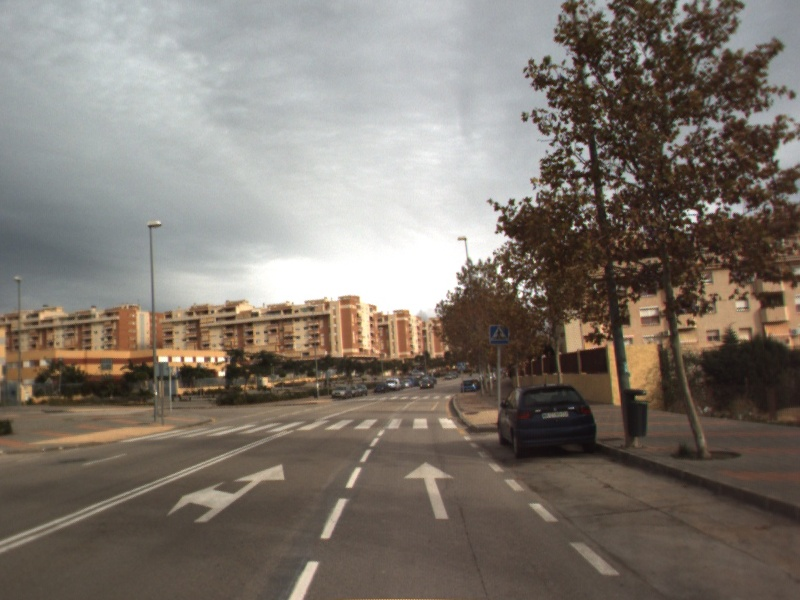STRAIGHT: (401, 459, 456, 521)
STRAIGHT_LEFT: (165, 462, 287, 524)
